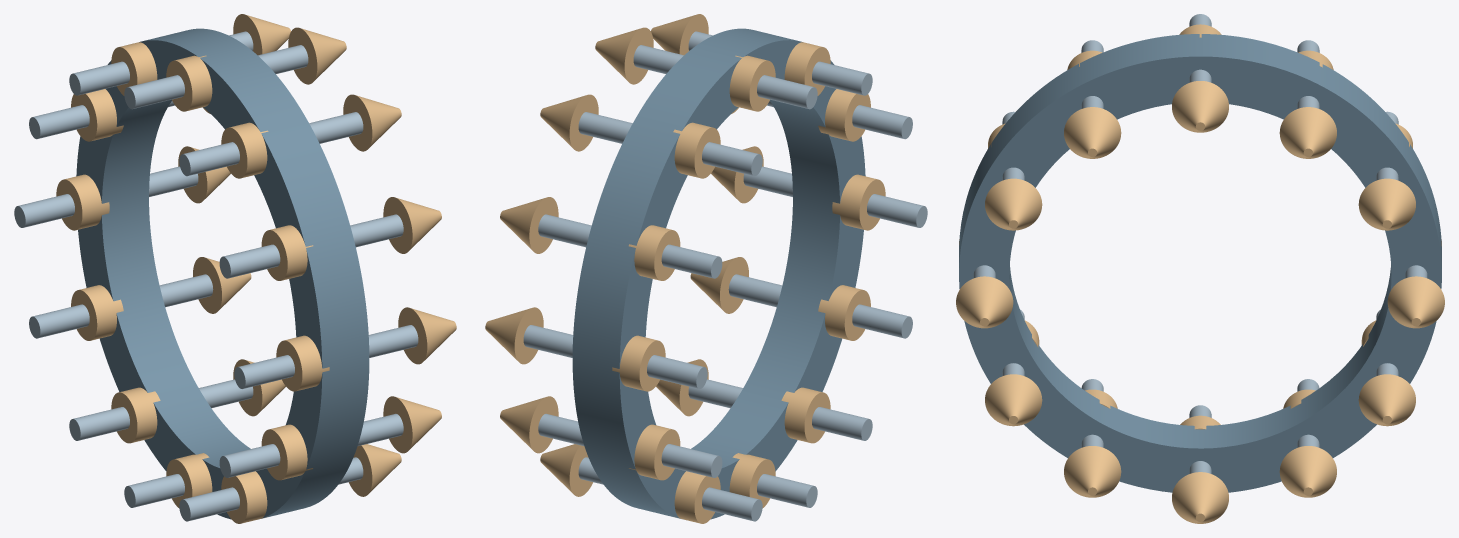
File: combustor-manifold.glb
3 renders of one model, left to right at view 1: azimuth 30°, elevation 25°; view 2: azimuth 150°, elevation 25°; view 3: azimuth 270°, elevation 25°, orthographic.
Parts seen in each view (by area): view 1: combustor-manifold - shell, combustor-manifold - bronze, combustor-manifold - steel; view 2: combustor-manifold - shell, combustor-manifold - bronze, combustor-manifold - steel; view 3: combustor-manifold - shell, combustor-manifold - bronze, combustor-manifold - steel.
Part boxes in pixels (left/top/right/bottom): combustor-manifold - shell: left=76, top=28, right=369, bottom=519; combustor-manifold - bronze: left=56, top=14, right=456, bottom=523; combustor-manifold - steel: left=14, top=31, right=418, bottom=521; combustor-manifold - shell: left=572, top=28, right=865, bottom=519; combustor-manifold - bronze: left=485, top=14, right=885, bottom=523; combustor-manifold - steel: left=523, top=31, right=927, bottom=521; combustor-manifold - shell: left=959, top=34, right=1441, bottom=492; combustor-manifold - bronze: left=956, top=24, right=1444, bottom=523; combustor-manifold - steel: left=973, top=14, right=1427, bottom=473.
Bounding box in the file's own units: 0.568 × 1.14 × 1.14.
